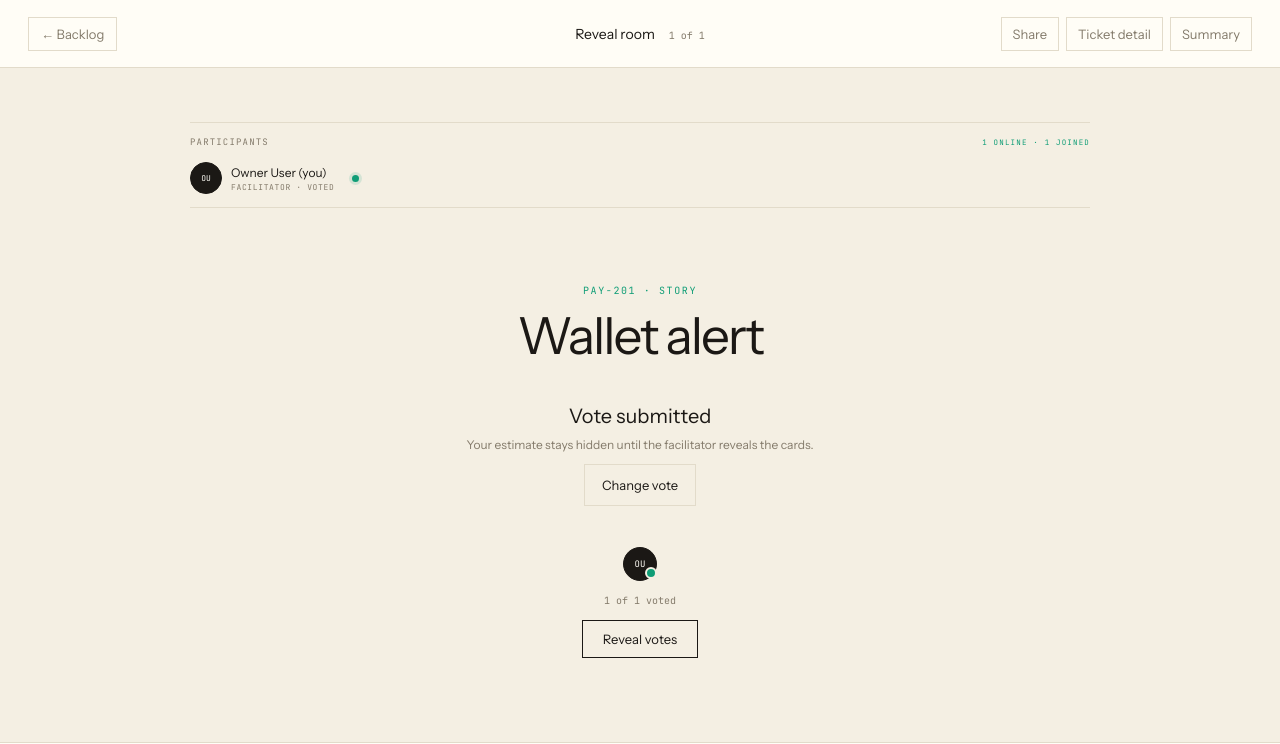
Scenario: vote reveal and final estimate › closes voting and presents the summary after pricing the final ticket
The width and height of the screenshot is (1280, 744).
What coordinates should you click on to do the following:
click the button "Reveal votes"
I would click on:
 (640, 639)
Its box is x1=582 y1=620 x2=698 y2=658.
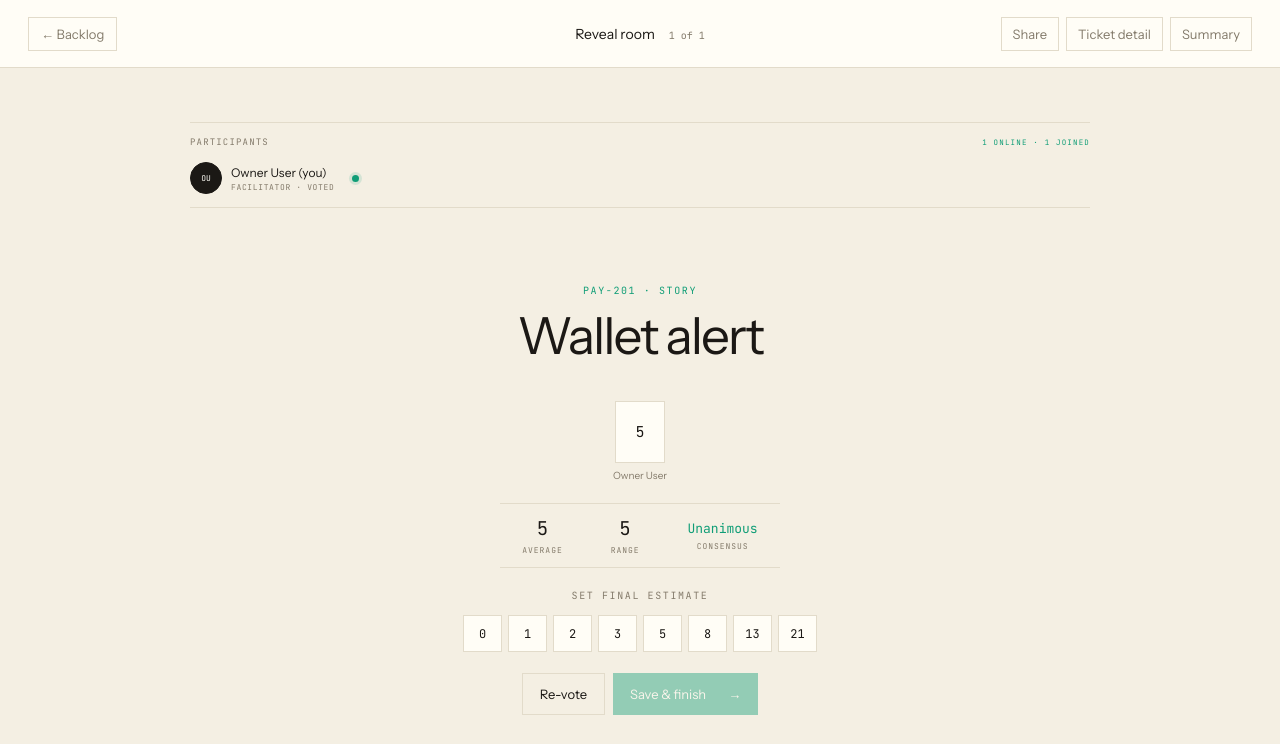
What coordinates should you click on to do the following:
click the button "5"
I would click on:
 (662, 634)
Its box is x1=643 y1=615 x2=682 y2=652.
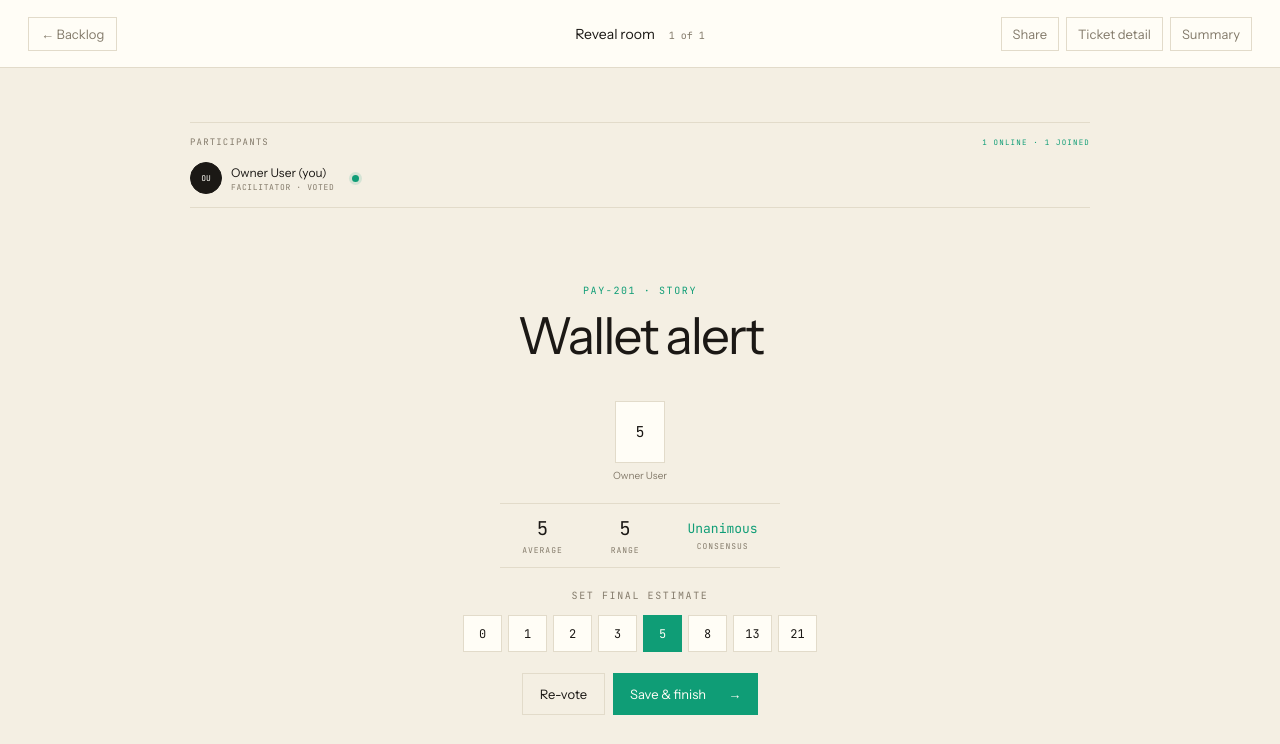
What coordinates should you click on to do the following:
click the button "Save & finish →"
I would click on:
 (686, 694)
Its box is x1=613 y1=673 x2=758 y2=715.
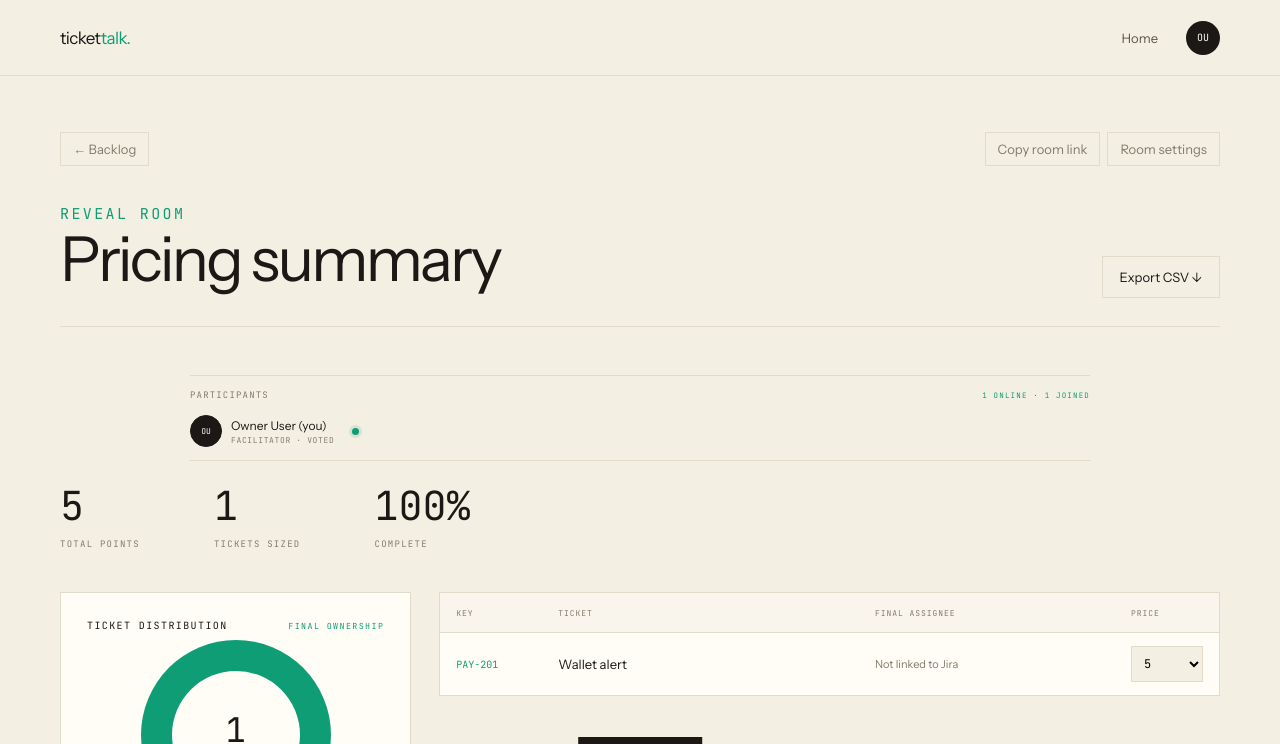
Check: the heading "Pricing summary" is shown, box x1=60 y1=228 x2=500 y2=290
Check: the text "100%" is shown, box x1=374 y1=479 x2=470 y2=532
